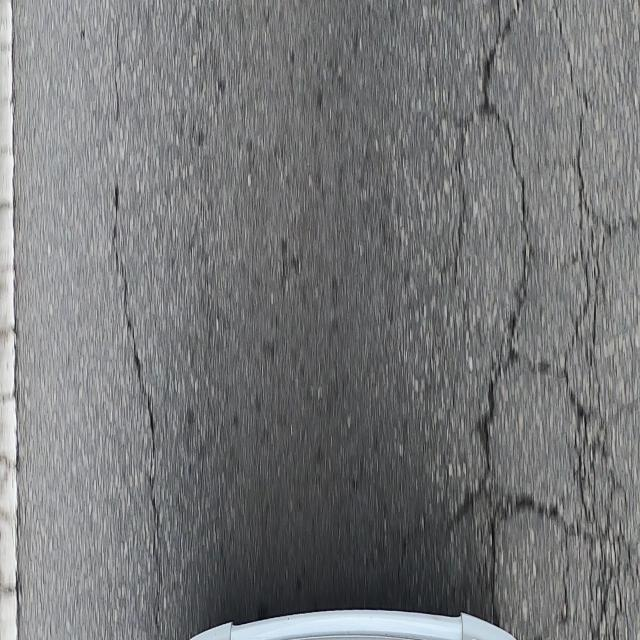Retak-Buaya: (446, 0, 640, 640)
Retak-Memanjang: (109, 182, 162, 638)
